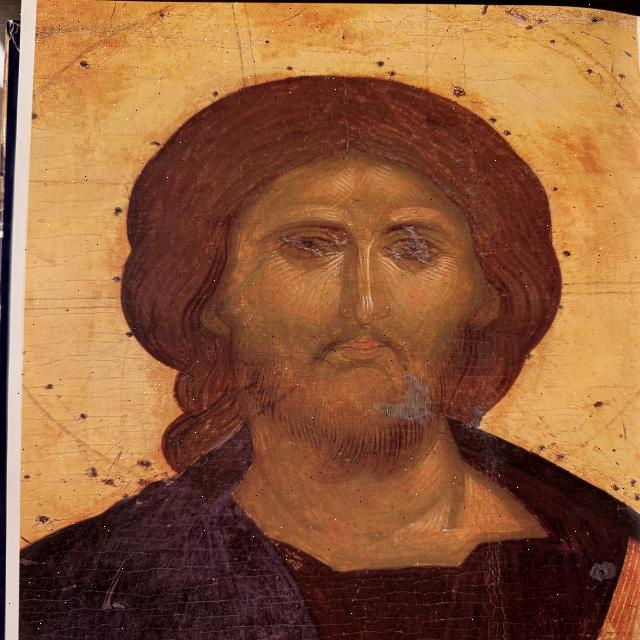christ: (54, 63, 628, 637)
